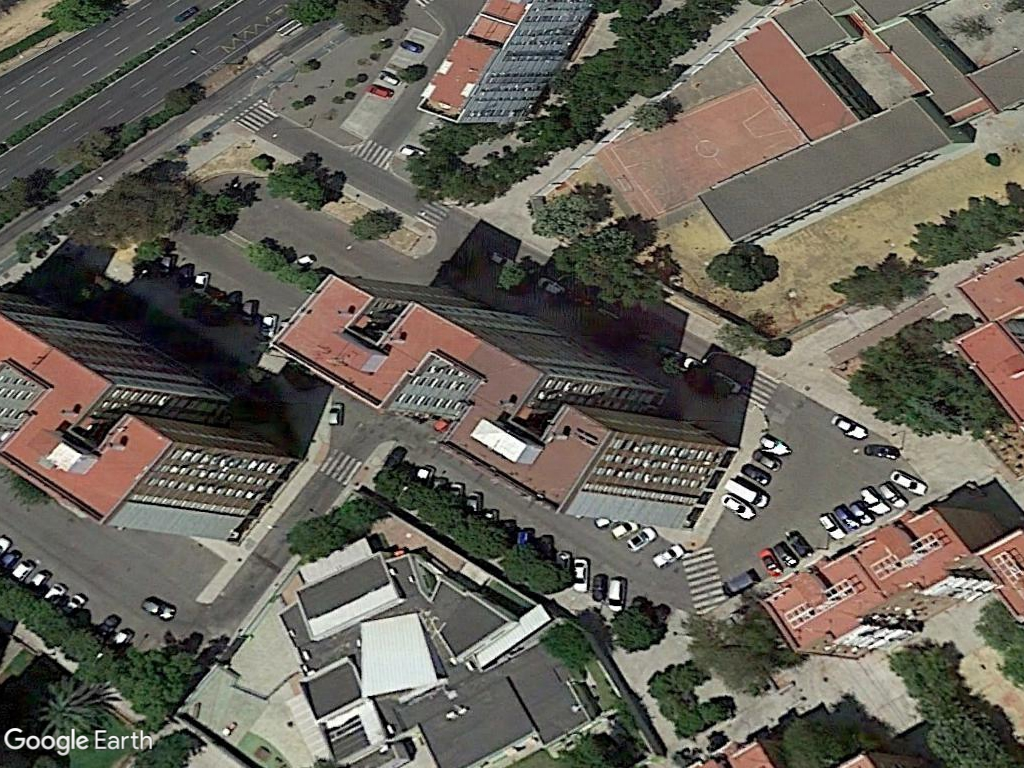car: (829, 410, 870, 445), (136, 594, 182, 624), (605, 570, 628, 620)
